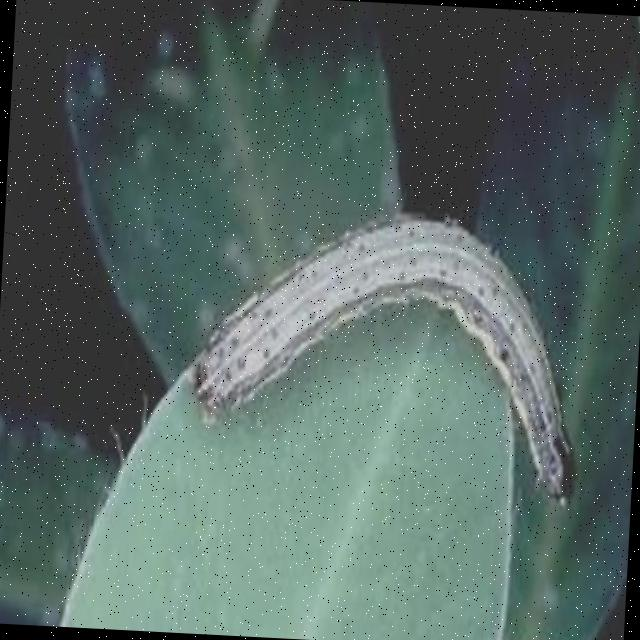worm: (183, 200, 592, 512)
